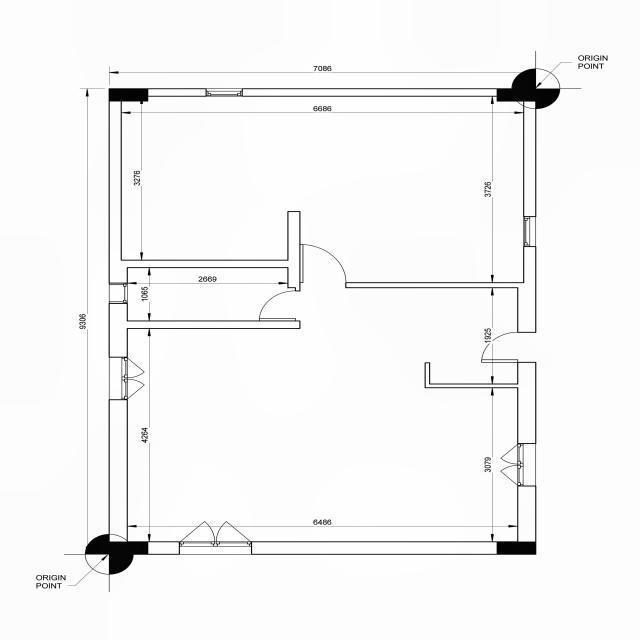Column: (108, 540, 150, 557), (496, 540, 538, 556), (109, 88, 148, 102), (496, 88, 534, 102)
Door: (300, 244, 345, 288), (481, 332, 538, 363), (258, 290, 301, 322)
Window: (178, 520, 252, 554), (500, 442, 538, 487), (108, 356, 144, 399), (522, 215, 538, 248), (109, 282, 128, 304), (206, 88, 243, 98)
